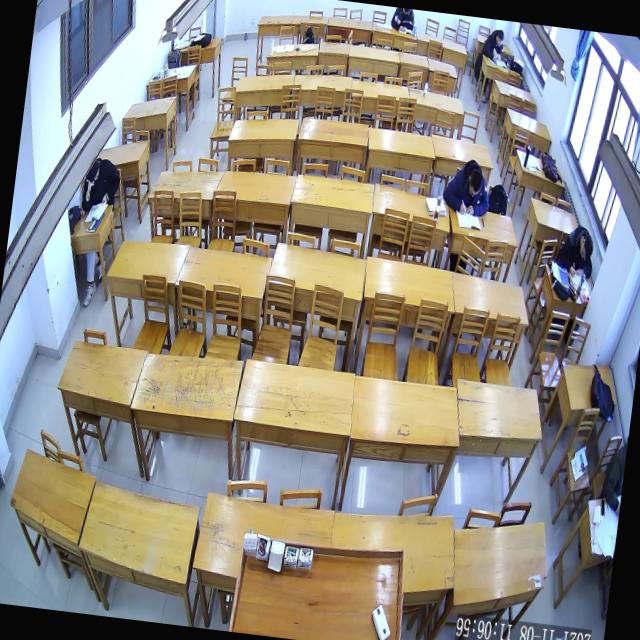down: (465, 167, 484, 200), (576, 232, 596, 263), (84, 156, 102, 186), (494, 28, 506, 49)
sit: (442, 153, 494, 220), (80, 153, 124, 217), (554, 220, 598, 280), (480, 26, 506, 64), (554, 265, 572, 289)
